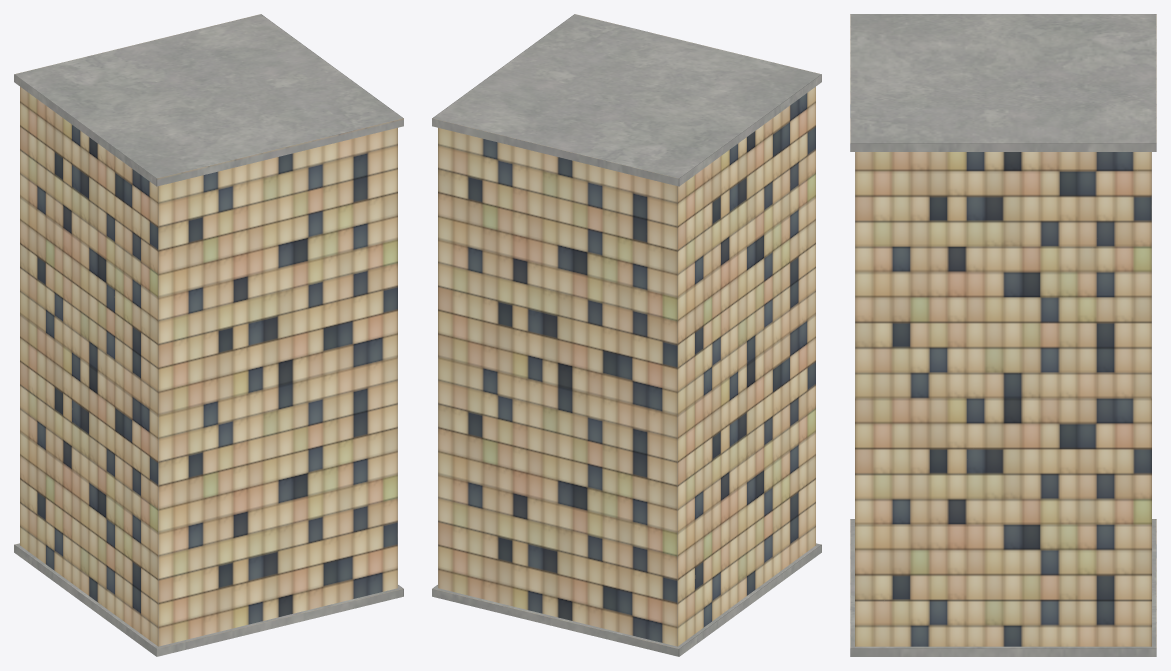
Rendered from building_07.2.glb.
3 renders of one model, left to right at view 1: azimuth 30°, elevation 25°; view 2: azimuth 150°, elevation 25°; view 3: azimuth 270°, elevation 25°, orthographic. The views are drawn at different scales.
Parts seen in each view (by area): view 1: building_07.2; view 2: building_07.2; view 3: building_07.2.
Boxes of the visible parts, x1=… form: building_07.2: x1=14, y1=14, x2=403, y2=656; building_07.2: x1=432, y1=14, x2=821, y2=656; building_07.2: x1=850, y1=14, x2=1156, y2=656.
Bounding box in the file's own units: 33 × 61 × 33.
Materials: 1 (1 with a texture image).
